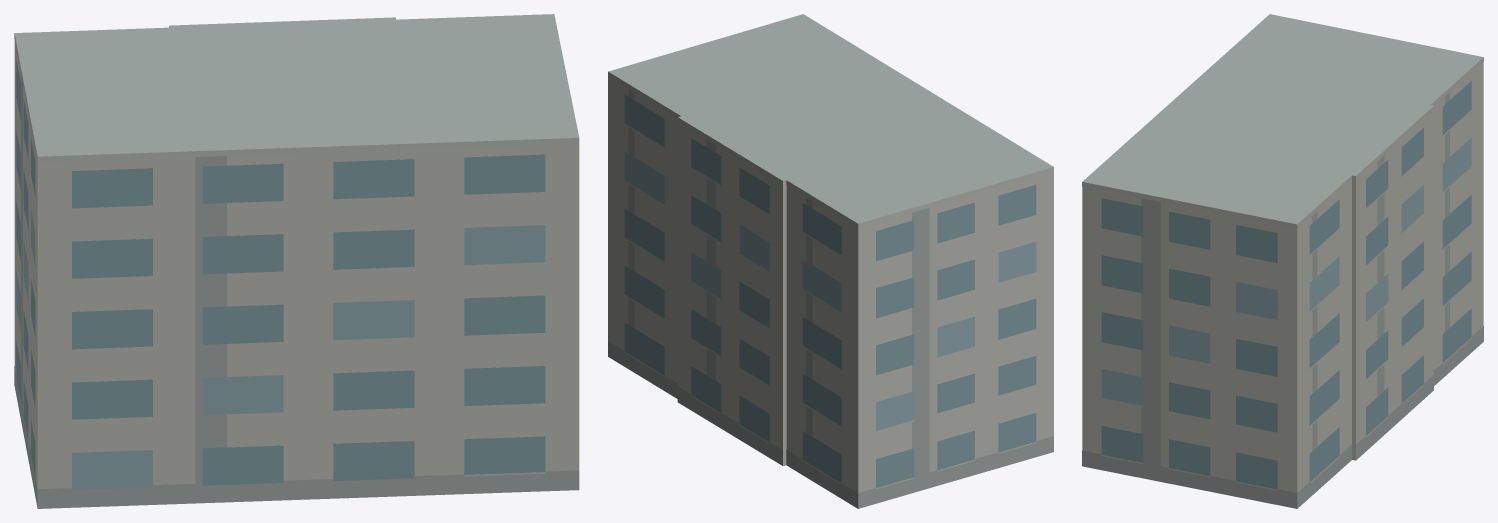
File: survey-upis-32557019.glb
3 renders of one model, left to right at view 1: azimuth 30°, elevation 25°; view 2: azimuth 150°, elevation 25°; view 3: azimuth 270°, elevation 25°, orthographic. The views are drawn at different scales.
Parts seen in each view (by area): view 1: survey-upis-32557019.tmp; view 2: survey-upis-32557019.tmp; view 3: survey-upis-32557019.tmp.
Boxes of the visible parts, x1,y1,x2,y2 form: survey-upis-32557019.tmp: [14, 14, 579, 508]; survey-upis-32557019.tmp: [608, 14, 1053, 508]; survey-upis-32557019.tmp: [1082, 14, 1483, 508].
Size of the model in its own units: 23.32 by 14.7 by 18.81.
